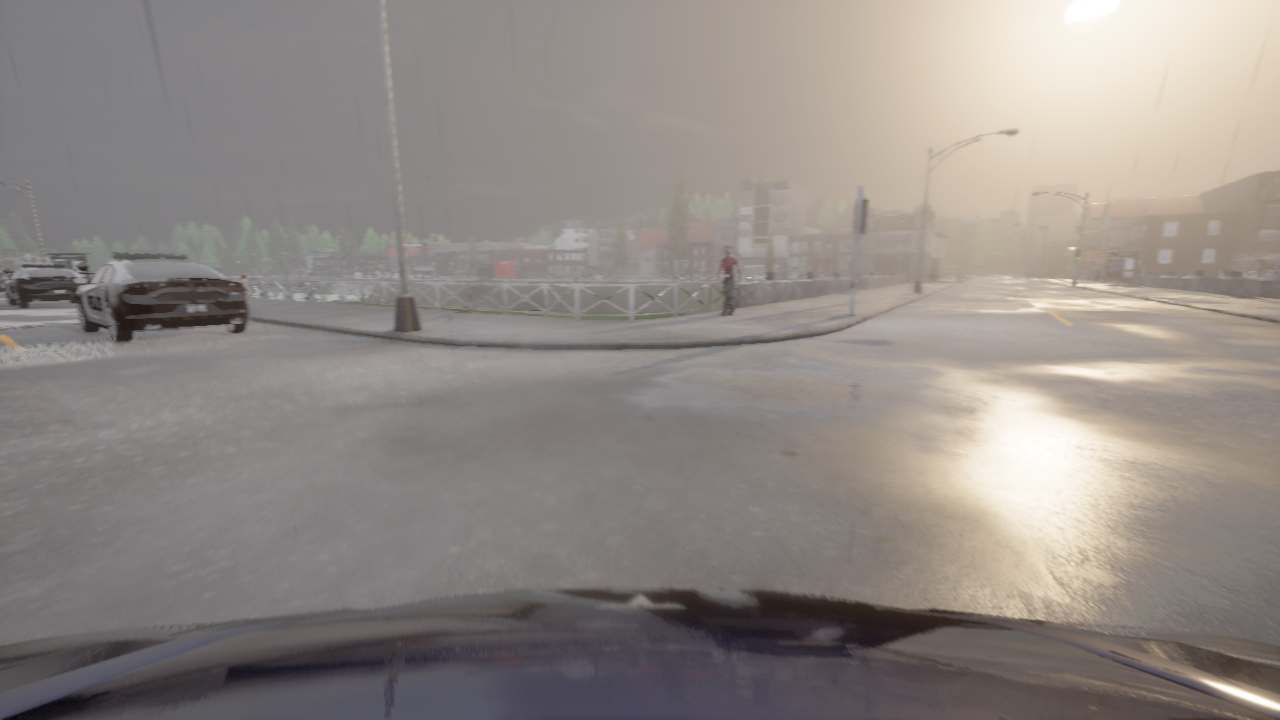cyclist: (0, 588, 1279, 719), (73, 252, 249, 343), (1, 264, 88, 307)
pedestrian: (716, 246, 740, 315), (241, 275, 249, 302)
